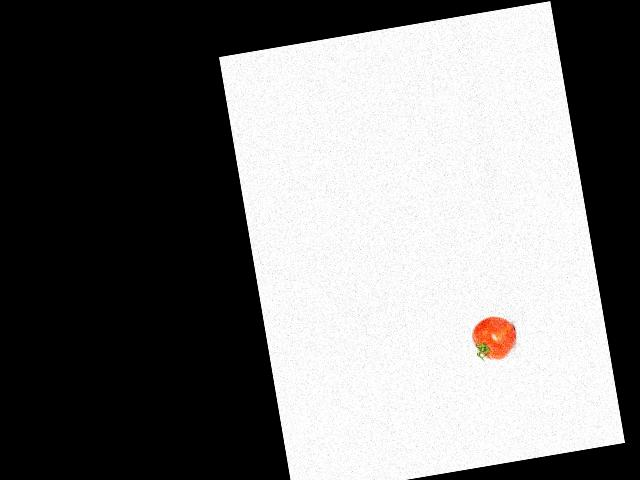tomato: (468, 313, 519, 363)
